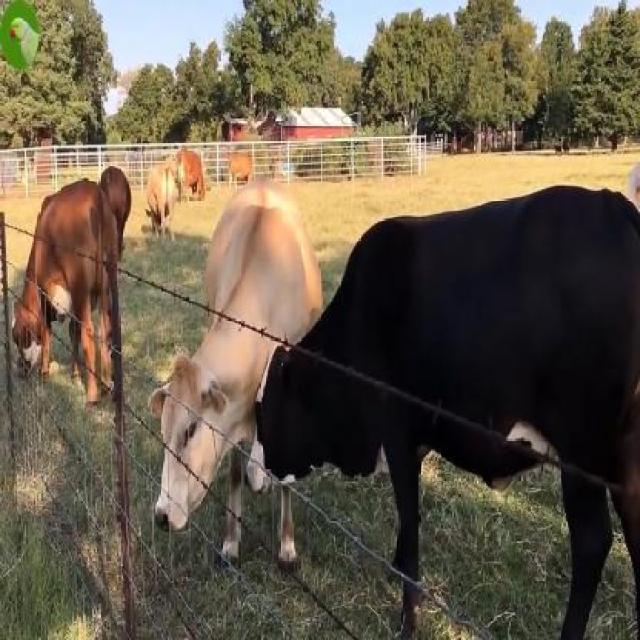Cow: (246, 188, 639, 637), (151, 179, 320, 566), (12, 175, 118, 403)
